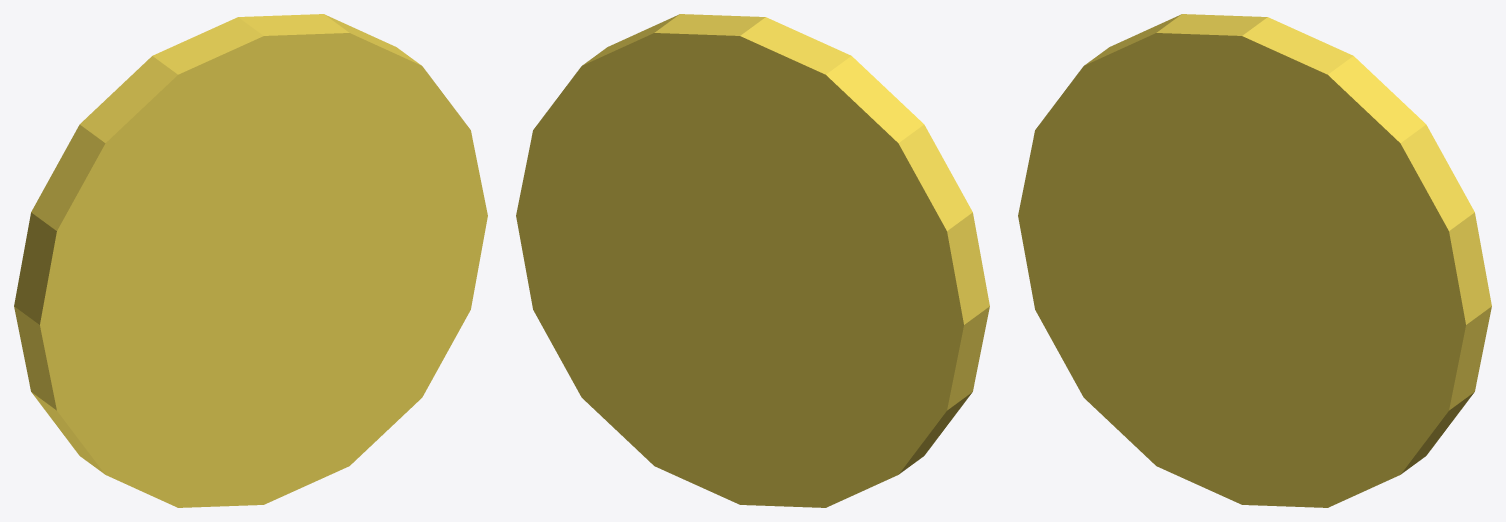
File: coin.glb
3 renders of one model, left to right at view 1: azimuth 30°, elevation 25°; view 2: azimuth 150°, elevation 25°; view 3: azimuth 330°, elevation 25°, orthographic.
Visible parts, largest first — view 1: item; view 2: item; view 3: item.
Boxes of the visible parts, box(x1,y1,x2,y2) form: item: box(14, 14, 487, 507); item: box(516, 14, 989, 507); item: box(1018, 14, 1491, 507).
Size of the model in its own units: 2 by 2 by 0.2.
